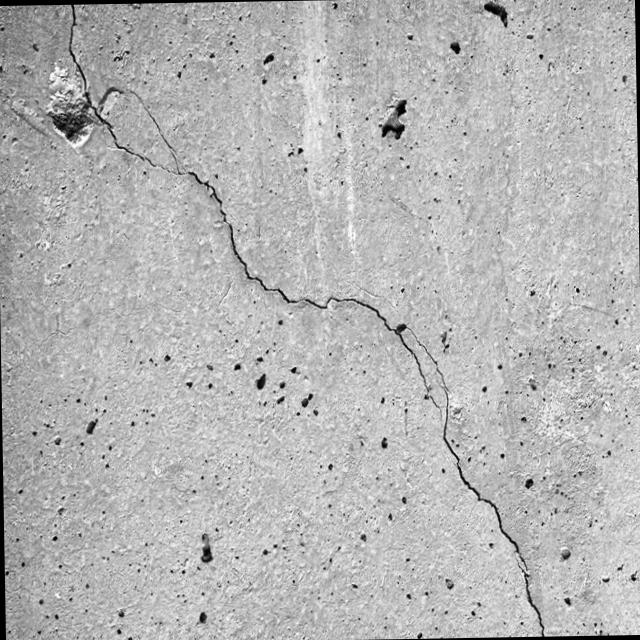crack: (179, 168, 401, 336), (407, 328, 528, 569), (66, 4, 155, 168), (128, 86, 180, 169), (521, 569, 545, 634)
